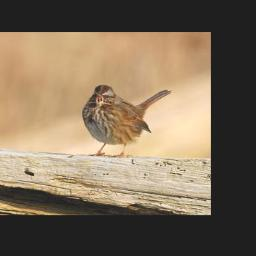Sparrow: (83, 84, 174, 157)
